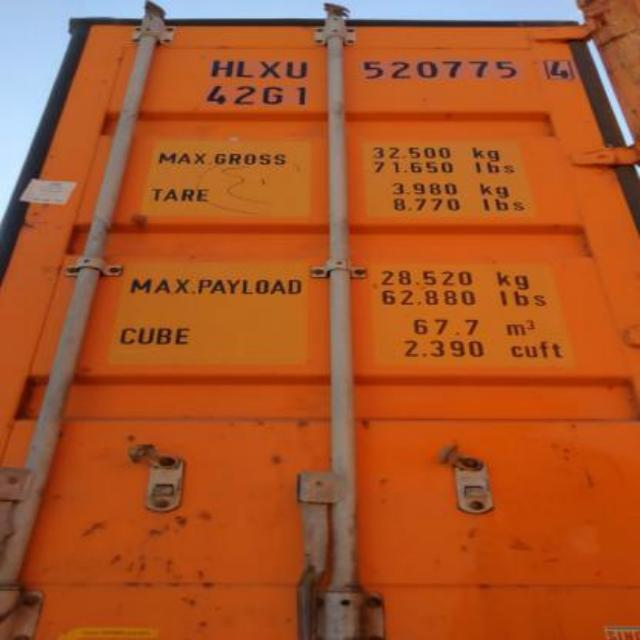0: (418, 60, 438, 78)
2: (390, 61, 410, 79)
4: (548, 60, 568, 78)
5: (364, 58, 384, 78), (494, 61, 516, 77)
7: (466, 61, 489, 77), (442, 61, 462, 77)
H: (212, 59, 232, 77)
L: (236, 60, 254, 78)
U: (286, 60, 308, 78)
X: (258, 60, 282, 78)
